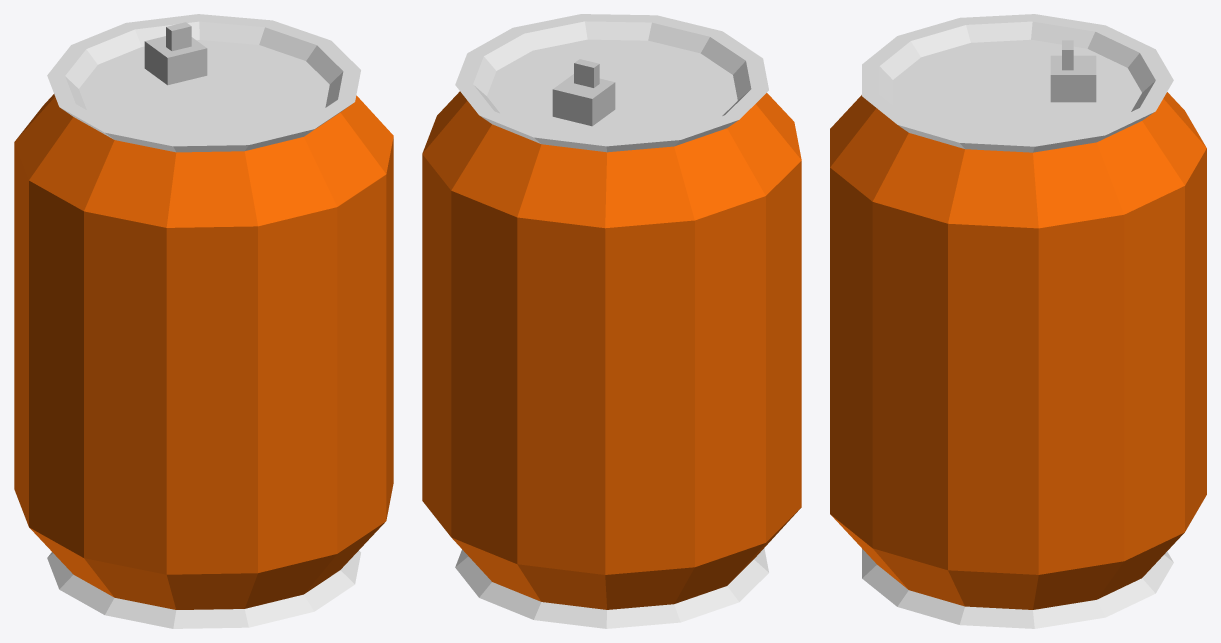
File: can_orange.glb
3 renders of one model, left to right at view 1: azimuth 30°, elevation 25°; view 2: azimuth 150°, elevation 25°; view 3: azimuth 270°, elevation 25°, orthographic.
Parts seen in each view (by area): view 1: Cylinder.001_Material.001_0, Cylinder.001_Material.002_0, Cylinder.001_Material.003_0; view 2: Cylinder.001_Material.001_0, Cylinder.001_Material.002_0, Cylinder.001_Material.003_0; view 3: Cylinder.001_Material.001_0, Cylinder.001_Material.002_0, Cylinder.001_Material.003_0.
Boxes of the visible parts, x1,y1,x2,y2 form: Cylinder.001_Material.001_0: [14, 94, 393, 609]; Cylinder.001_Material.002_0: [47, 14, 360, 628]; Cylinder.001_Material.003_0: [144, 22, 207, 85]; Cylinder.001_Material.001_0: [422, 91, 801, 609]; Cylinder.001_Material.002_0: [455, 14, 768, 628]; Cylinder.001_Material.003_0: [552, 59, 615, 126]; Cylinder.001_Material.001_0: [830, 92, 1206, 609]; Cylinder.001_Material.002_0: [862, 14, 1173, 628]; Cylinder.001_Material.003_0: [1050, 40, 1096, 102].
Bounding box in the file's own units: 199 × 299 × 197.
